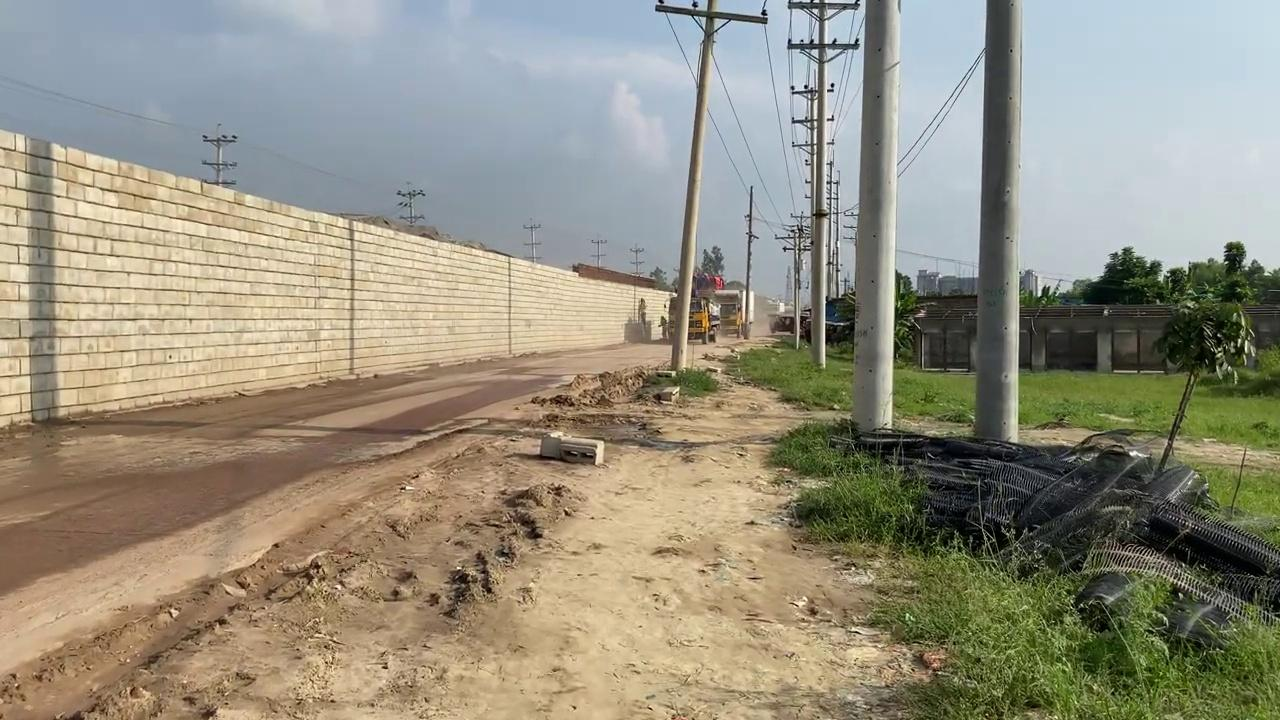Fence: (906, 301, 1278, 374)
Garbage: (827, 424, 1278, 653)
Obstacle: (539, 431, 605, 466)
Pole: (786, 0, 860, 367), (849, 0, 901, 432), (972, 0, 1022, 442), (669, 3, 718, 372)
Rickshaw: (167, 332, 923, 720)
Tree: (664, 294, 718, 344), (711, 288, 746, 337)
Upstairs: (0, 126, 674, 430)
